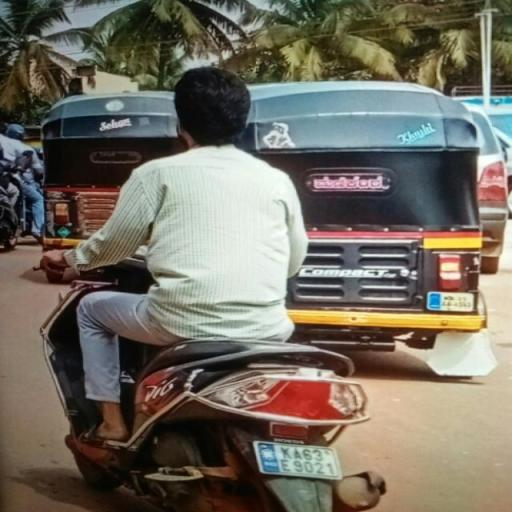bike: (23, 61, 395, 512)
numberplate: (255, 441, 343, 478)
withouthelmet: (176, 70, 252, 144)
